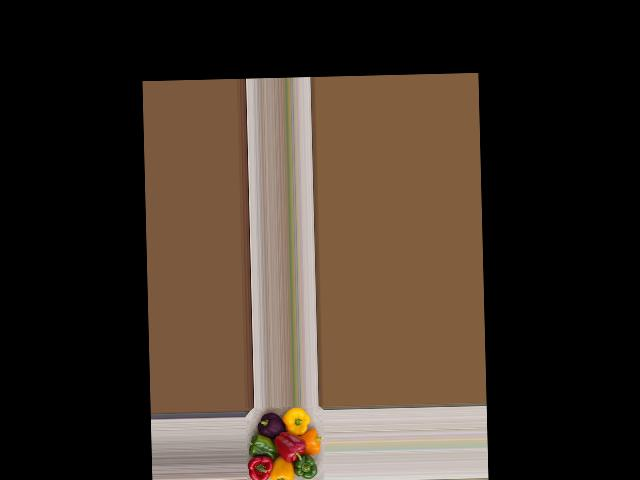bell_pepper: (250, 413, 286, 444)
